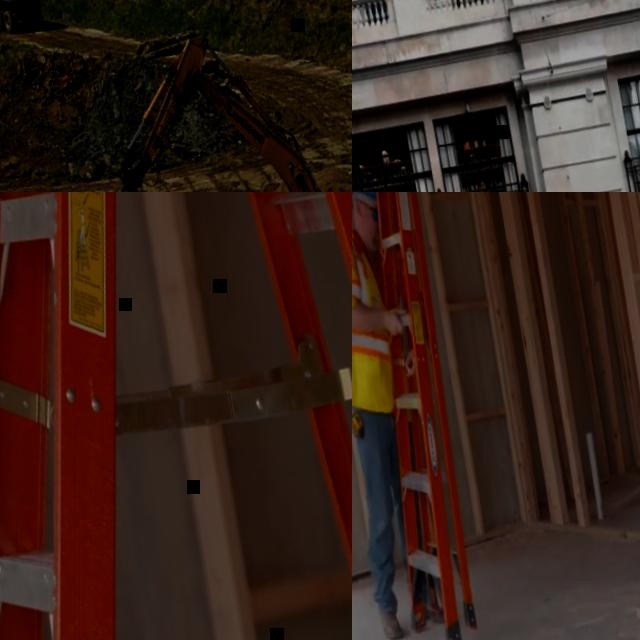NO-Mask: (362, 219, 382, 253)
Person: (352, 192, 458, 639)
Safety Vest: (352, 230, 402, 420)
machinery: (93, 4, 352, 192)
